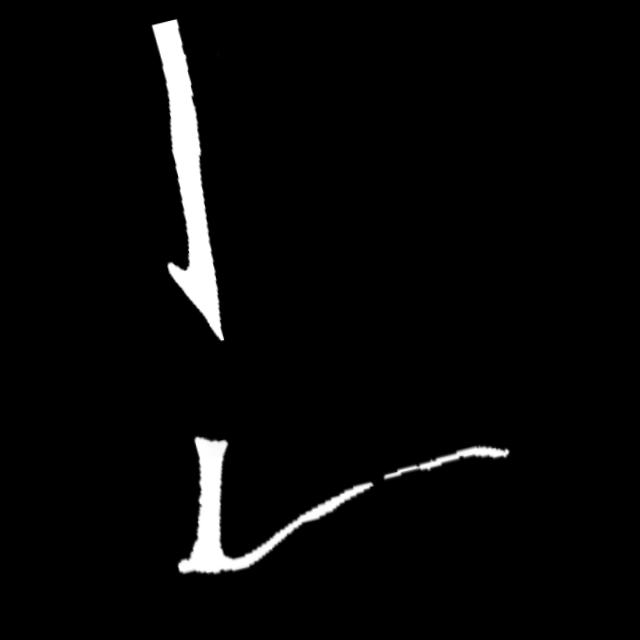sup: (348, 464, 395, 501)
